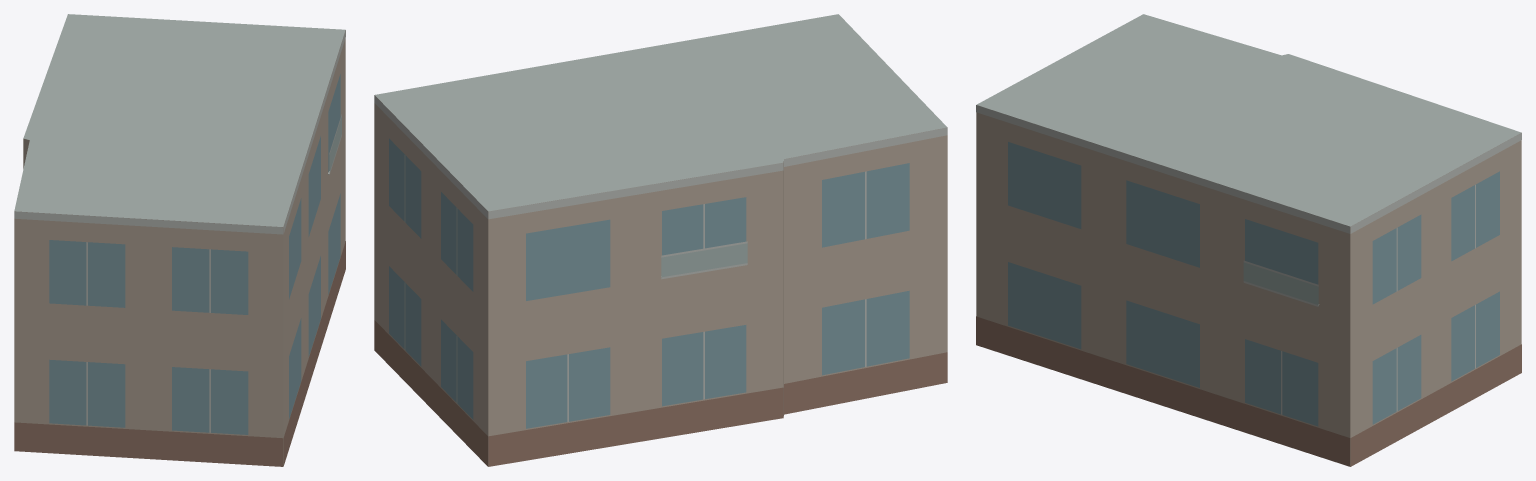
Rendered from survey-upis-32489907.glb.
3 renders of one model, left to right at view 1: azimuth 30°, elevation 25°; view 2: azimuth 150°, elevation 25°; view 3: azimuth 270°, elevation 25°, orthographic. The views are drawn at different scales.
Parts seen in each view (by area): view 1: survey-upis-32489907.tmp; view 2: survey-upis-32489907.tmp; view 3: survey-upis-32489907.tmp.
Boxes of the visible parts, x1=… form: survey-upis-32489907.tmp: x1=14, y1=14, x2=345, y2=466; survey-upis-32489907.tmp: x1=374, y1=14, x2=947, y2=466; survey-upis-32489907.tmp: x1=976, y1=14, x2=1521, y2=466.
Bounding box in the file's own units: 15 × 7.9 × 16.27.
